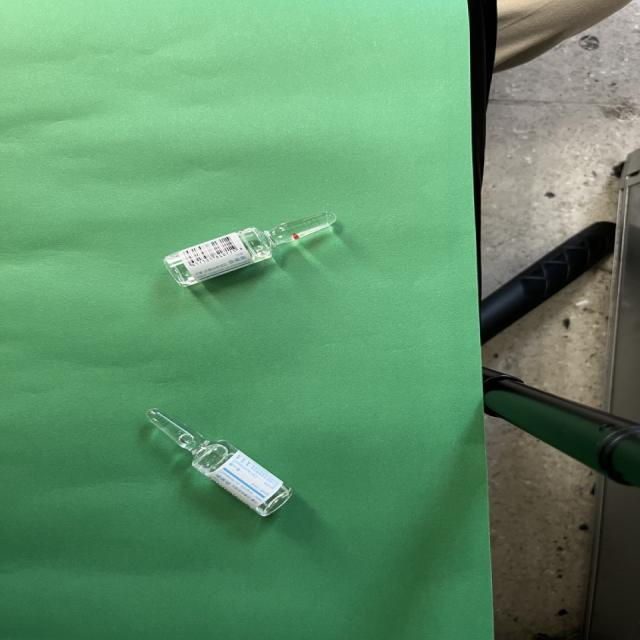Ampoules: (147, 408, 291, 516), (165, 212, 337, 286)
